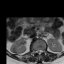CCS_normal: (38, 48, 40, 55)
LFS_normal: (42, 48, 44, 53)
LLS_normal: (40, 48, 42, 54)
RFS_normal: (33, 48, 36, 55)
RLS_normal: (36, 49, 38, 54)
